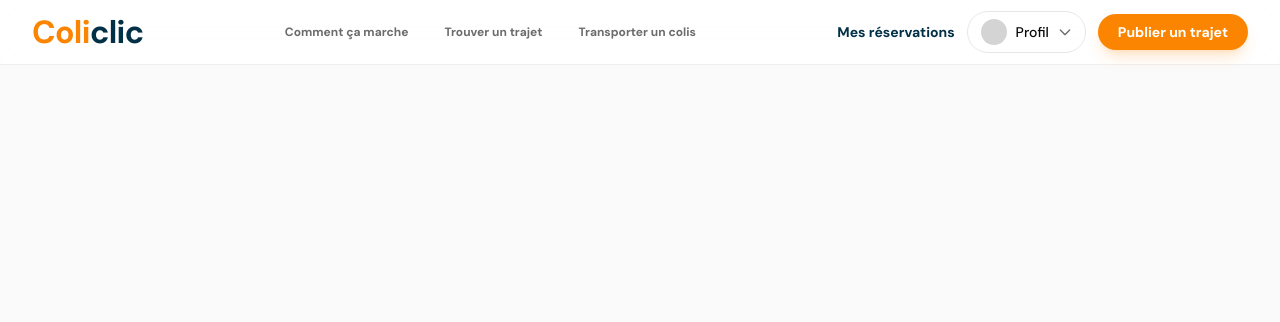
HeaderComponent › navigates to trips and closes the profile menu when clicking Mes trajets
What coordinates should you click on to do the following:
click the button with aria-label "Menu profil"
I would click on:
 (1026, 32)
Its box is [967, 11, 1086, 53].
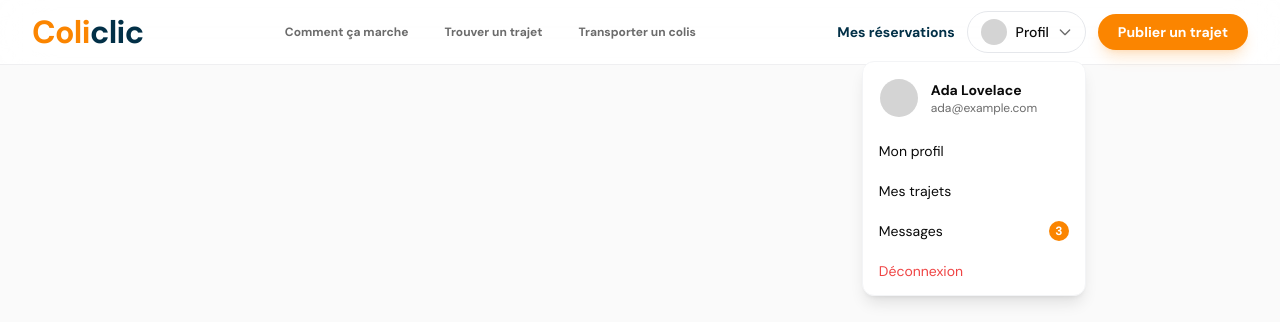
Check: the menu item to "/trips" reads "Mes trajets"
What coordinates should you click on to do the following:
click the menu item to "/trips"
I would click on:
 (915, 191)
Its box is [879, 182, 951, 200].
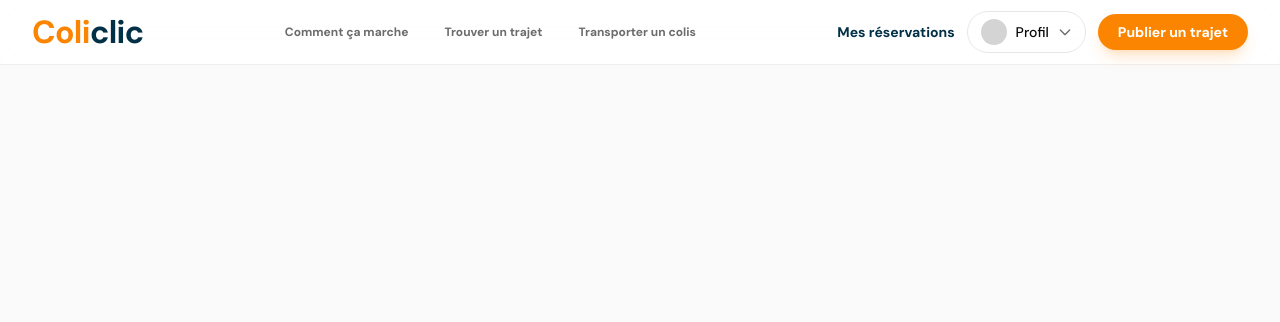
Check: the menu is gone
